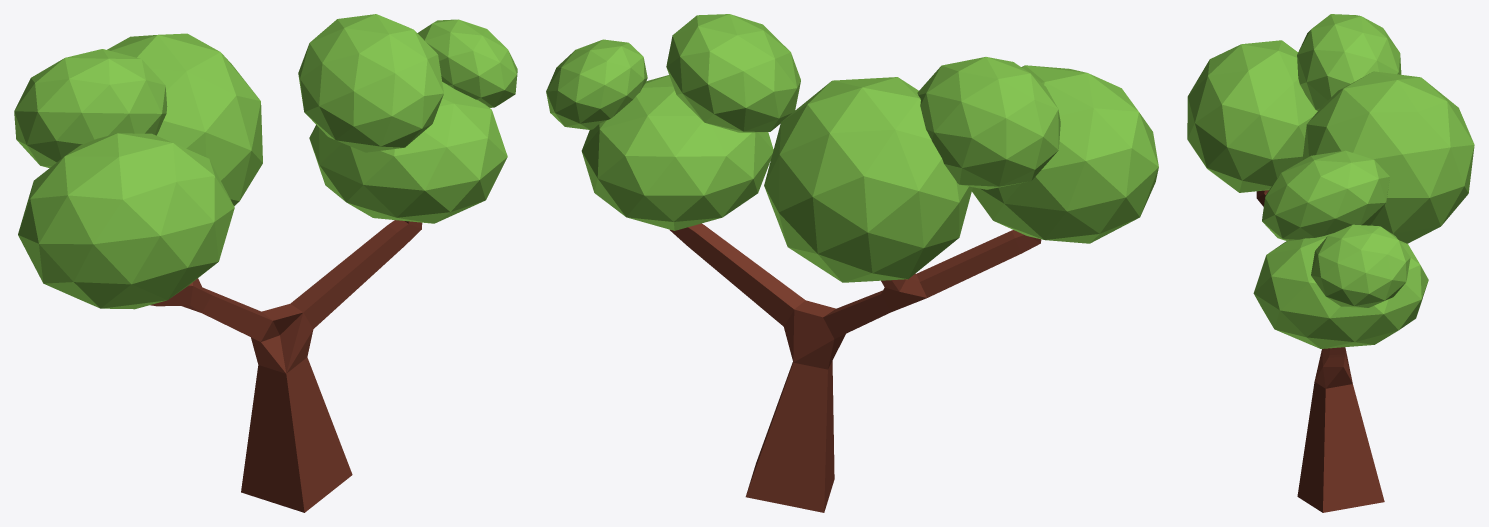
The model's file is tree.gltf.
The picture shows the model from 3 angles, left to right: view 1: azimuth 30°, elevation 25°; view 2: azimuth 150°, elevation 25°; view 3: azimuth 270°, elevation 25°; orthographic projection. The views are drawn at different scales.
Visible parts, largest first — view 1: Icosphere.002, Plane, Icosphere.005, Icosphere, Icosphere.001, Icosphere.003, Icosphere.004; view 2: Icosphere.001, Plane, Icosphere.002, Icosphere, Icosphere.003, Icosphere.005, Icosphere.004; view 3: Icosphere.001, Icosphere.002, Icosphere, Plane, Icosphere.005, Icosphere.004, Icosphere.003.
Part boxes in pixels (<box>): Icosphere.002: <box>18,133,234,309</box>; Plane: <box>150,220,422,512</box>; Icosphere.005: <box>298,14,443,152</box>; Icosphere: <box>309,82,507,223</box>; Icosphere.001: <box>107,33,262,206</box>; Icosphere.003: <box>14,49,167,167</box>; Icosphere.004: <box>417,19,517,107</box>; Icosphere.001: <box>764,77,972,282</box>; Plane: <box>670,223,1041,512</box>; Icosphere.002: <box>972,65,1158,243</box>; Icosphere: <box>581,75,773,230</box>; Icosphere.003: <box>917,57,1060,189</box>; Icosphere.005: <box>666,14,800,132</box>; Icosphere.004: <box>546,39,647,129</box>; Icosphere.001: <box>1302,71,1474,243</box>; Icosphere.002: <box>1187,40,1317,192</box>; Icosphere: <box>1253,233,1428,348</box>; Plane: <box>1256,190,1384,512</box>; Icosphere.005: <box>1262,150,1389,240</box>; Icosphere.004: <box>1311,224,1410,307</box>; Icosphere.003: <box>1297,14,1401,110</box>.
Size of the model in its own units: 2.91 by 2.49 by 1.62.
